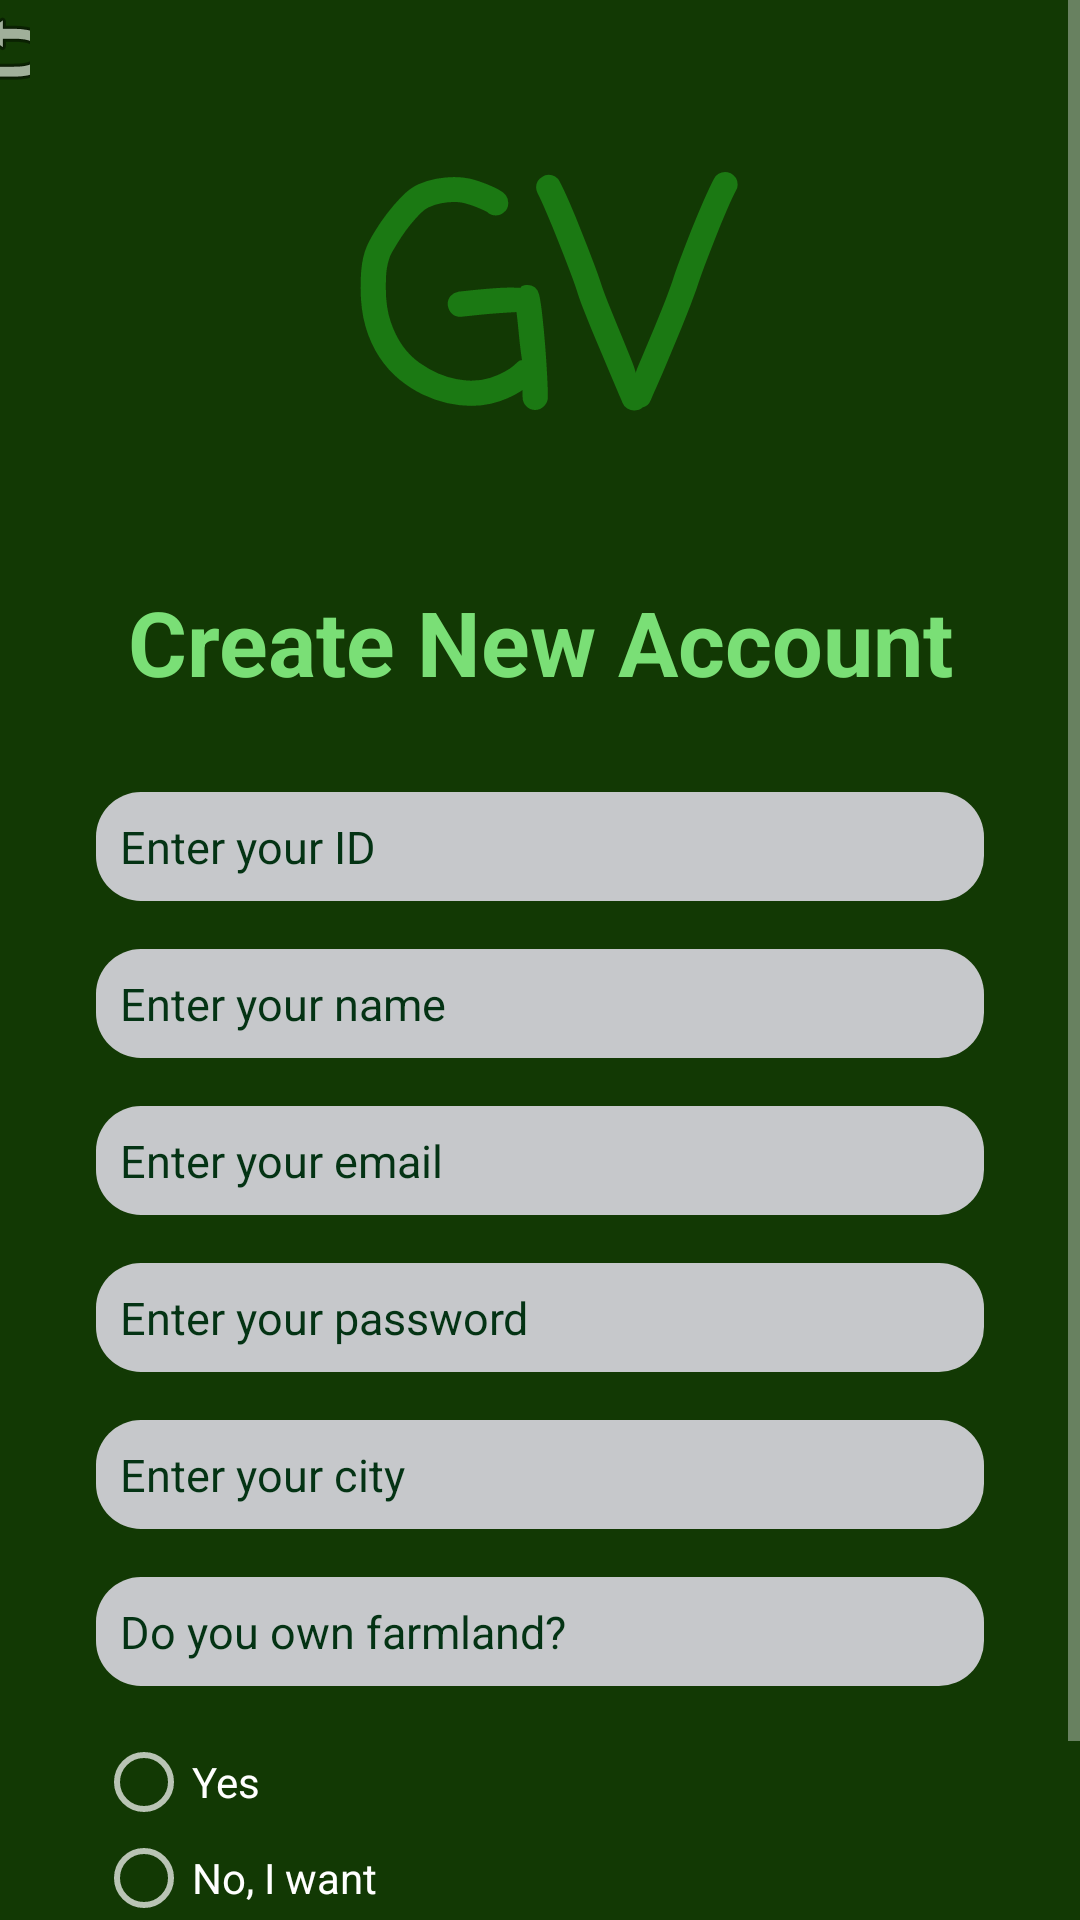

Where to tap for icons on this 1080*1920 app screen, as (x=x, y=y):
Back: (x=15, y=48)
